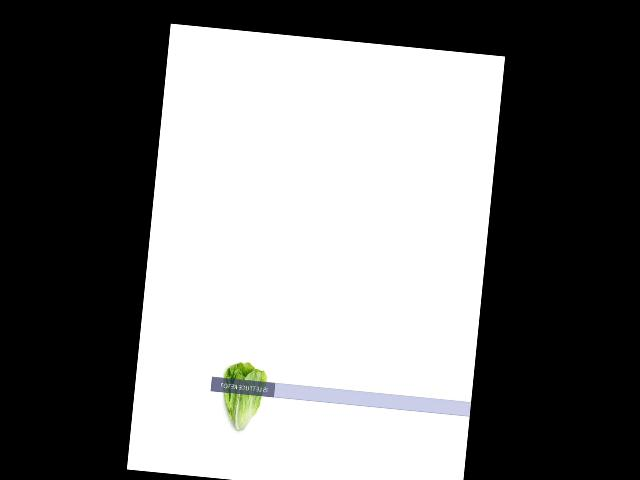lettuce: (214, 360, 269, 439)
